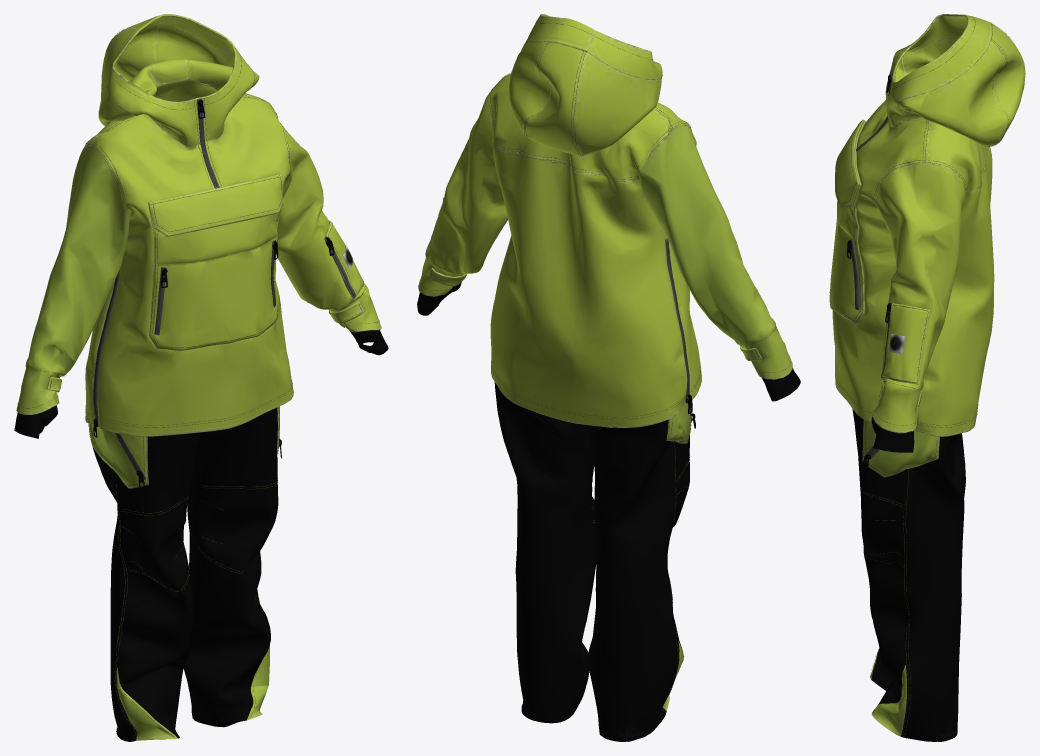
The model's file is sportswear-suit.glb.
3 views of the same model, side by side, from view 1: azimuth 30°, elevation 25°; view 2: azimuth 150°, elevation 25°; view 3: azimuth 270°, elevation 25° (orthographic). The views are drawn at different scales.
Visible parts, largest first — view 1: Cloth_1; view 2: Cloth_1; view 3: Cloth_1.
Part boxes in pixels (x1,y1,x2,y2): Cloth_1: (14, 14, 388, 741); Cloth_1: (417, 14, 800, 741); Cloth_1: (829, 14, 1025, 741).
Bounding box in the file's own units: 45.19 × 82.61 × 21.08.
3 materials, 3 textured.
